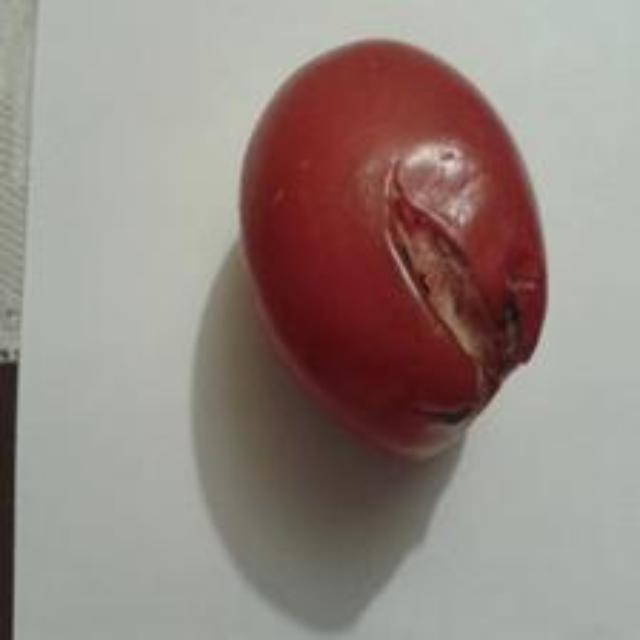defect: (234, 33, 555, 472)
